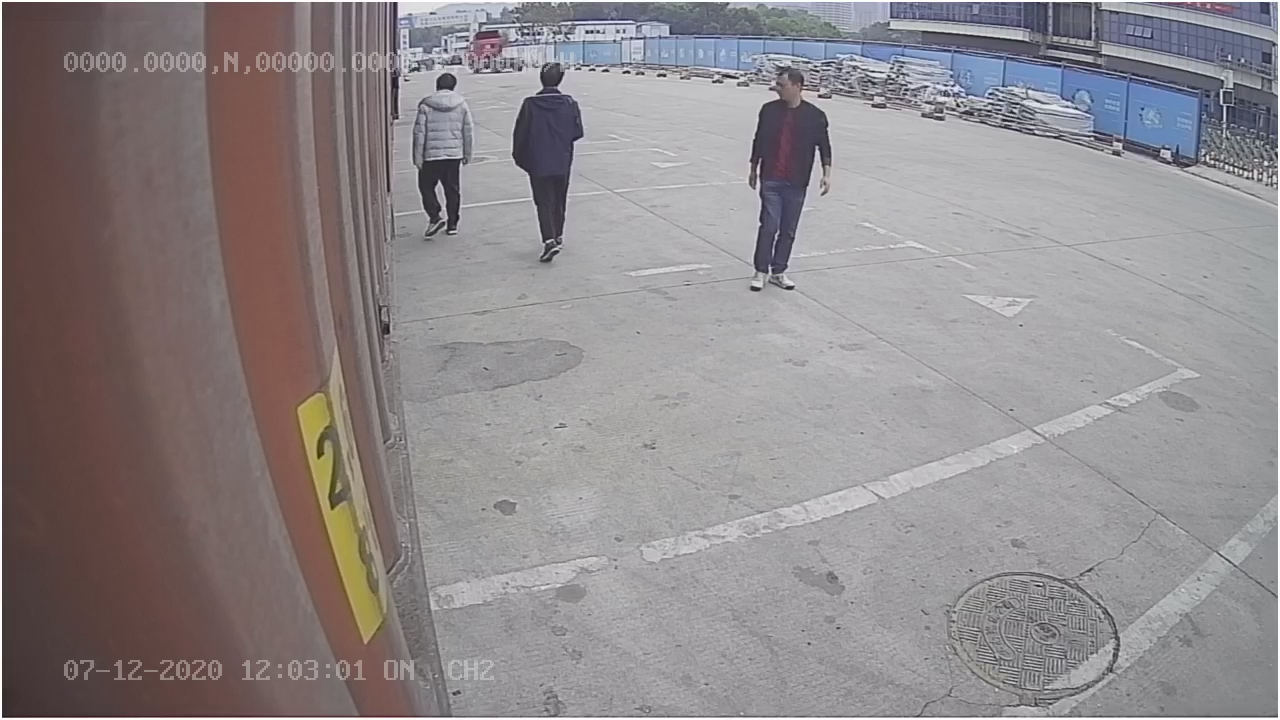person: (742, 67, 835, 292)
